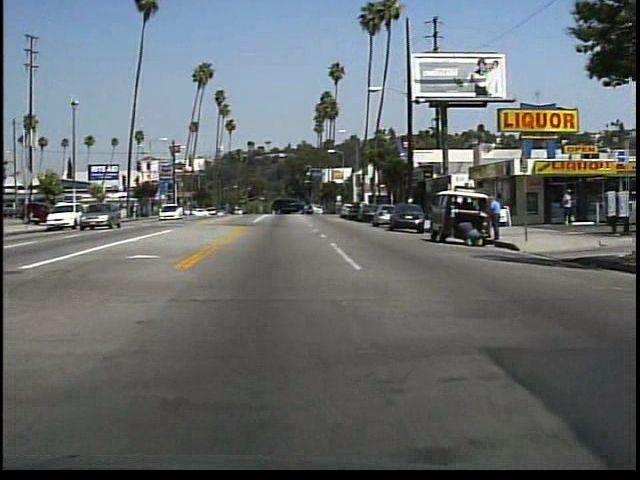person: (486, 191, 505, 243), (457, 218, 482, 249), (561, 187, 577, 230)
